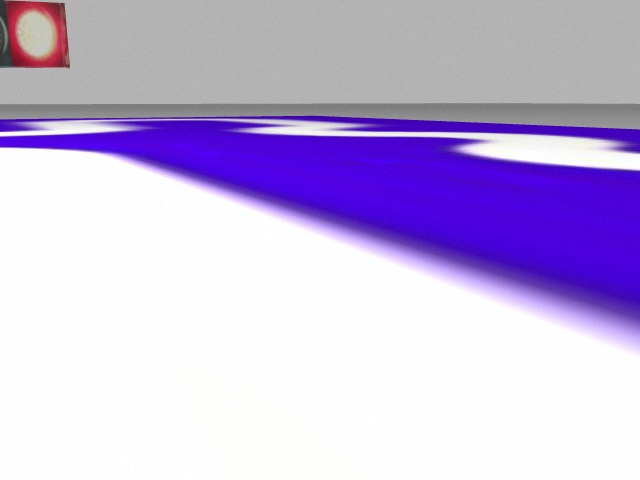red: (4, 1, 70, 66)
